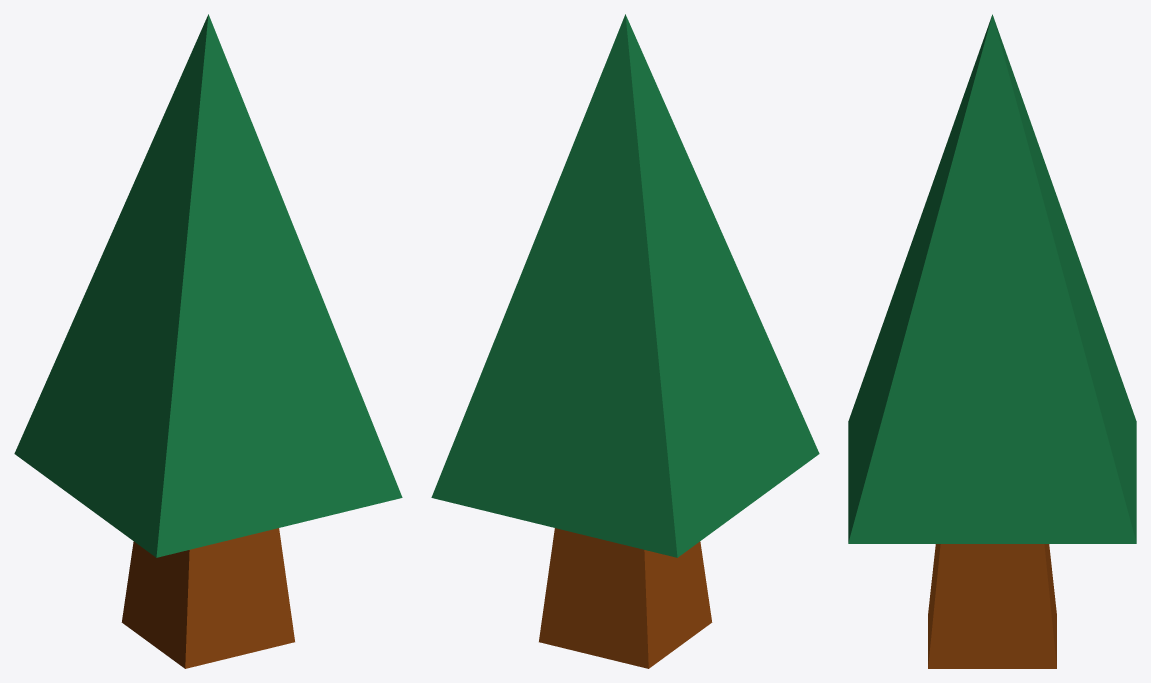
Rendered from 2025-11-26-Boswell-SimpleTree-v001.fbx.
The picture shows the model from 3 angles, left to right: view 1: azimuth 30°, elevation 25°; view 2: azimuth 150°, elevation 25°; view 3: azimuth 270°, elevation 25°; orthographic projection.
Visible parts, largest first — view 1: Cube; view 2: Cube; view 3: Cube.
Boxes of the visible parts, left/top/right/bottom form: Cube: left=14, top=14, right=402, bottom=668; Cube: left=431, top=14, right=819, bottom=668; Cube: left=848, top=14, right=1136, bottom=668.
Bounding box in the file's own units: 214 × 513 × 214.
